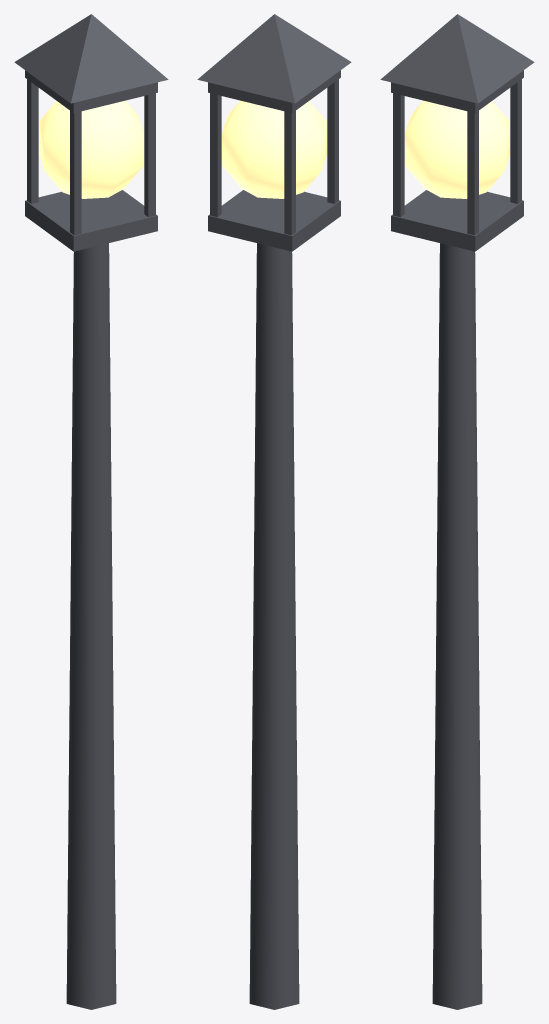
The model's file is ville_lampadaire.glb.
The picture shows the model from 3 angles, left to right: view 1: azimuth 30°, elevation 25°; view 2: azimuth 150°, elevation 25°; view 3: azimuth 330°, elevation 25°; orthographic projection.
Parts seen in each view (by area): view 1: lampadaire; view 2: lampadaire; view 3: lampadaire.
Part boxes in pixels (bbox=[...]): lampadaire: bbox=[14, 14, 168, 1009]; lampadaire: bbox=[197, 14, 351, 1009]; lampadaire: bbox=[380, 14, 534, 1009].
Size of the model in its own units: 0.396 by 3.8 by 0.396.
